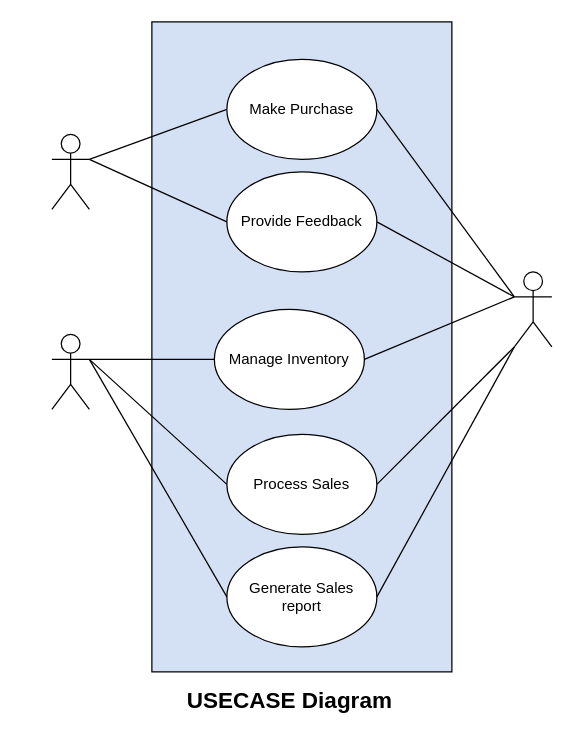
This 580x748 diagram has some shape labels left out. Each missing label, with the box of its shape:
Customer: (51, 133, 89, 209)
Store Manager: (51, 333, 89, 409)
System: (513, 271, 552, 347)
